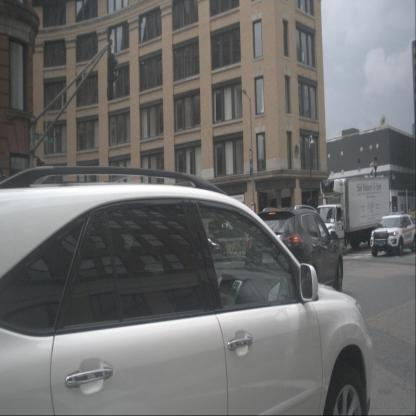vehicle-bicycle: (231, 238, 247, 257)
vehicle-car: (0, 166, 379, 414), (246, 204, 343, 294), (371, 213, 415, 258), (194, 237, 227, 260)
vehicle-truck: (314, 177, 391, 254)
